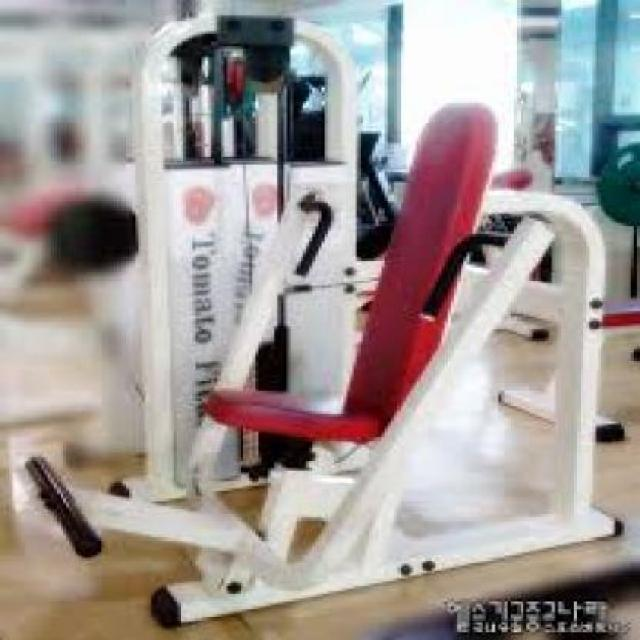Chest Press machine: (19, 9, 623, 626)
